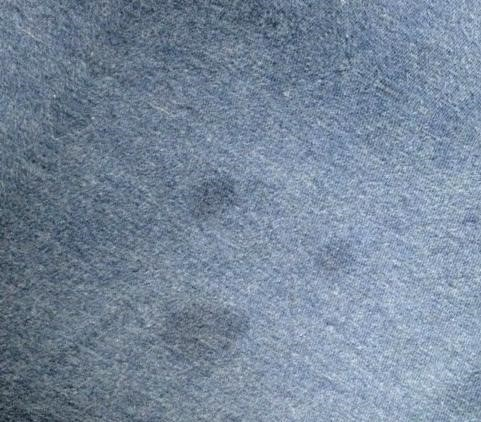stain: (150, 299, 252, 382), (176, 163, 244, 225), (299, 227, 363, 287)
